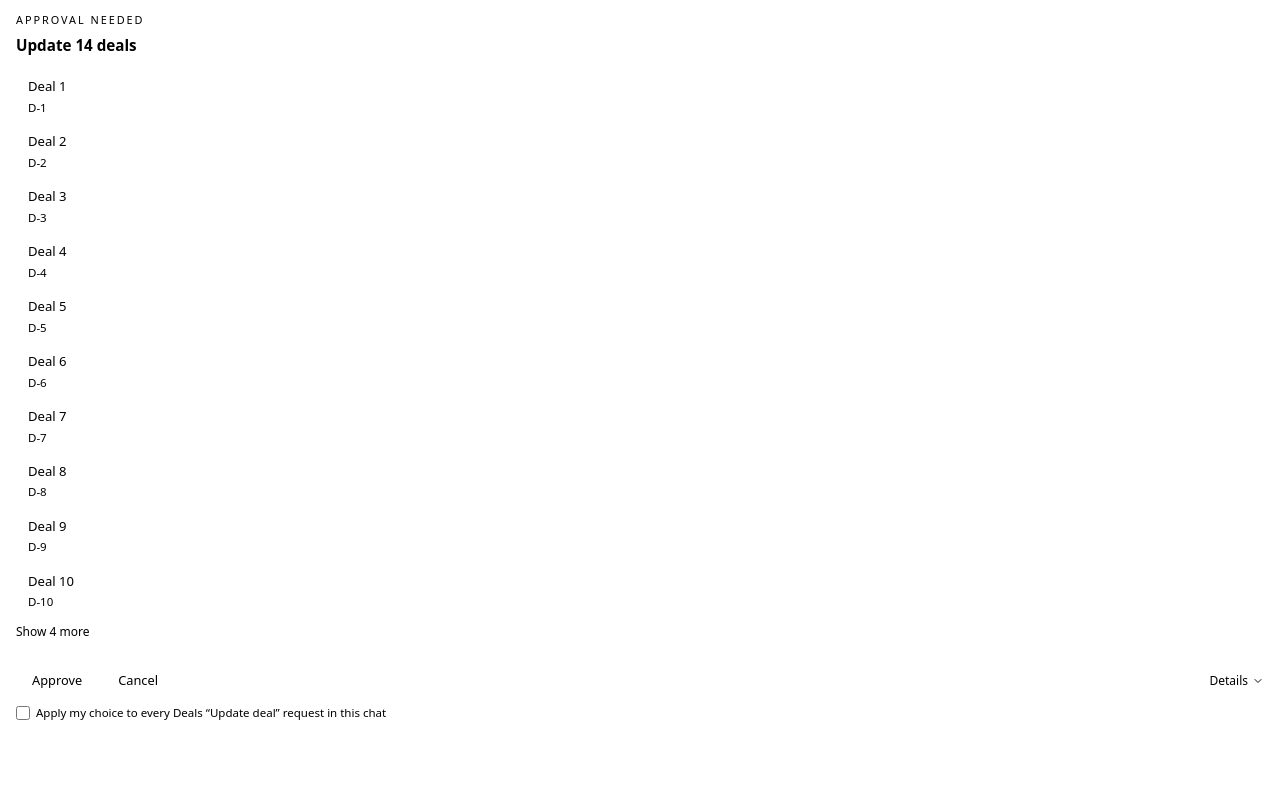
Scenario: the readable approval card › collapses a long list after 10 with Show N more
Click the button "Show 4 more" at [53, 632], box [16,623,90,641]
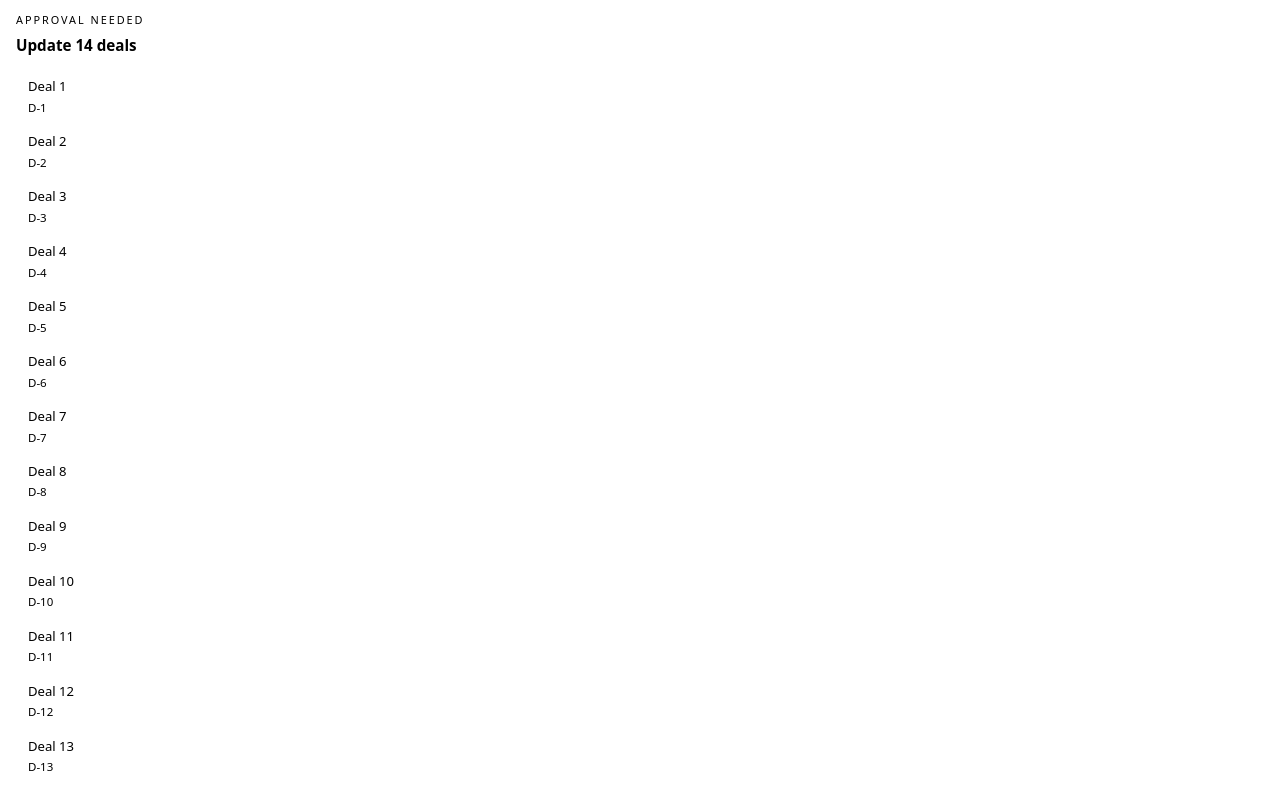
expect the button with test id "approval-card-show-more" is gone: met
